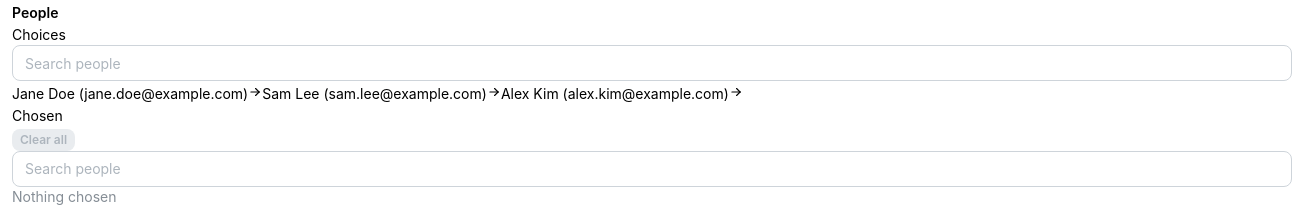
TransferList › shows nothing found when search has no matches
Type "zzz" into the field named "Search choices" at (652, 63), box [12,45,1292,81]
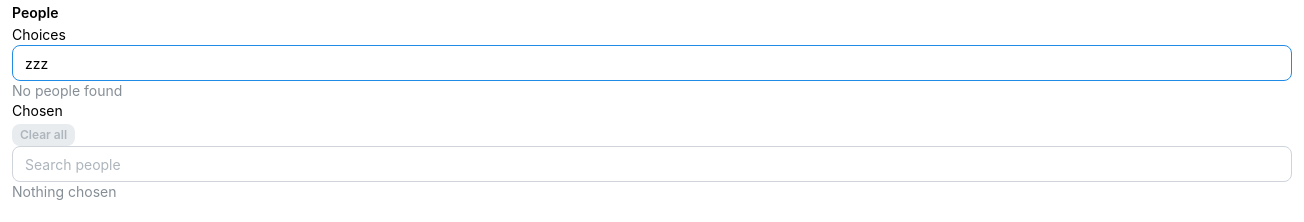
Check: the text "No people found" is shown, box [12,82,122,99]
